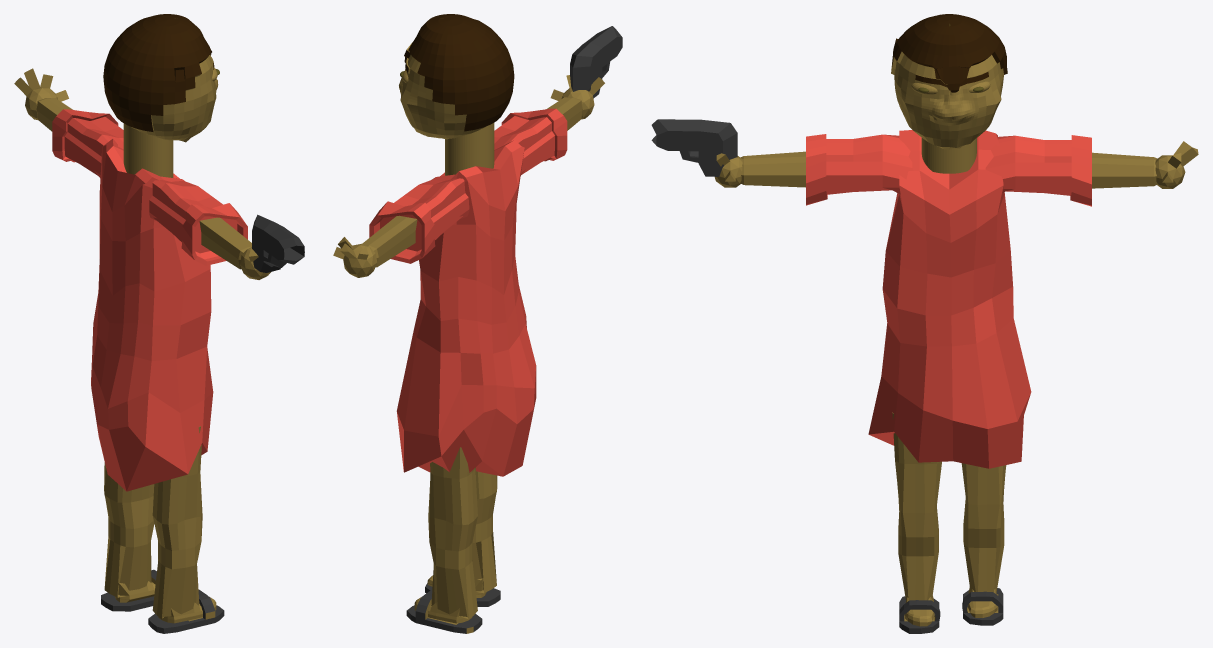
File: Jeffry.fbx
3 renders of one model, left to right at view 1: azimuth 30°, elevation 25°; view 2: azimuth 150°, elevation 25°; view 3: azimuth 270°, elevation 25°, orthographic.
Visible parts, largest first — view 1: Cube.002; view 2: Cube.002; view 3: Cube.002.
Boxes of the visible parts, x1=… form: Cube.002: x1=14, y1=14, x2=304, y2=633; Cube.002: x1=333, y1=14, x2=622, y2=633; Cube.002: x1=651, y1=14, x2=1198, y2=633.
Bounding box in the file's own units: 87.02 × 409 × 340.
